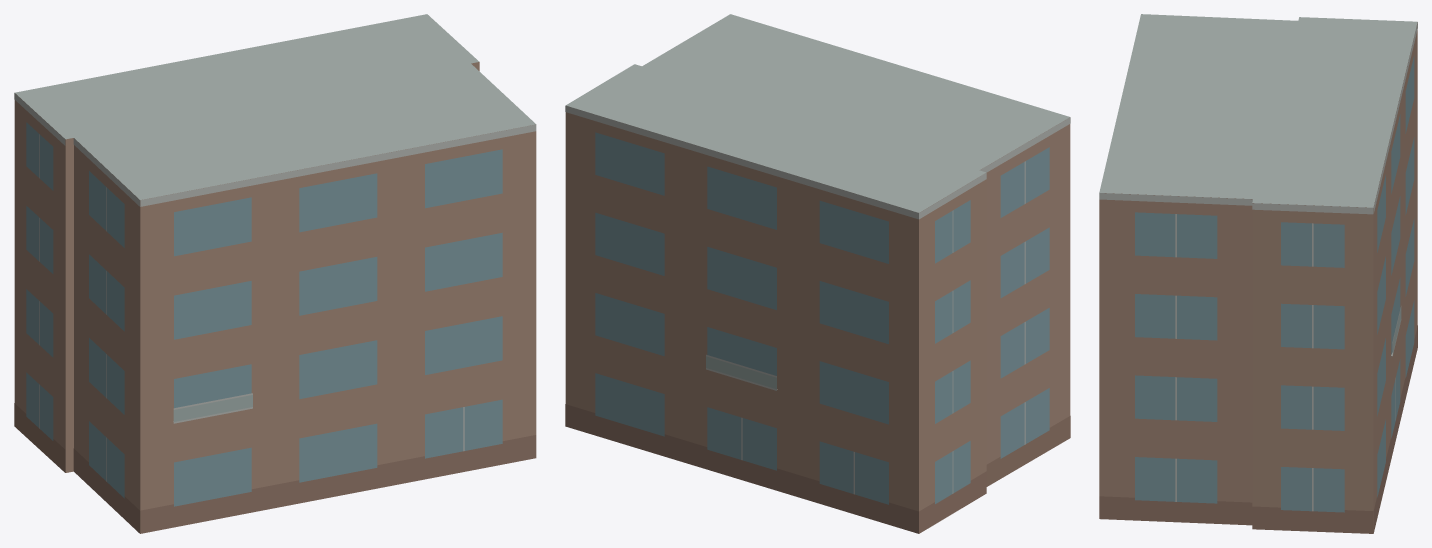
The model's file is survey-upis-32955589.glb.
3 views of the same model, side by side, from view 1: azimuth 30°, elevation 25°; view 2: azimuth 150°, elevation 25°; view 3: azimuth 270°, elevation 25° (orthographic). The views are drawn at different scales.
Parts seen in each view (by area): view 1: survey-upis-32955589.tmp; view 2: survey-upis-32955589.tmp; view 3: survey-upis-32955589.tmp.
Boxes of the visible parts, box(x1,y1,x2,y2) form: survey-upis-32955589.tmp: box(14, 14, 536, 533); survey-upis-32955589.tmp: box(565, 14, 1070, 533); survey-upis-32955589.tmp: box(1099, 14, 1417, 533).
Size of the model in its own units: 15.16 by 11.9 by 10.54.
